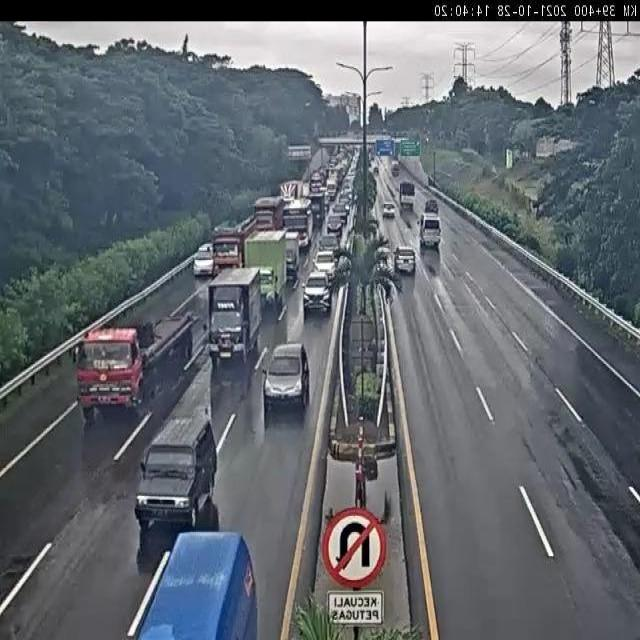Bus: (281, 198, 313, 254)
Car: (135, 419, 219, 533), (262, 340, 311, 418), (314, 249, 338, 286), (394, 246, 416, 274), (326, 214, 343, 234), (382, 202, 396, 219), (425, 198, 440, 213)
Truck: (74, 314, 200, 418), (206, 268, 264, 370), (245, 229, 297, 318), (212, 225, 248, 277), (253, 198, 282, 230), (400, 182, 416, 208)
Van: (418, 214, 441, 248)
